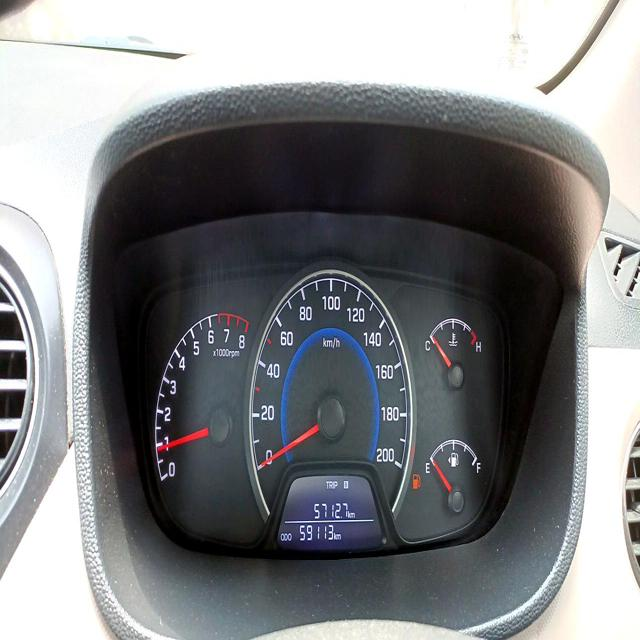odometer: (298, 522, 333, 543)
